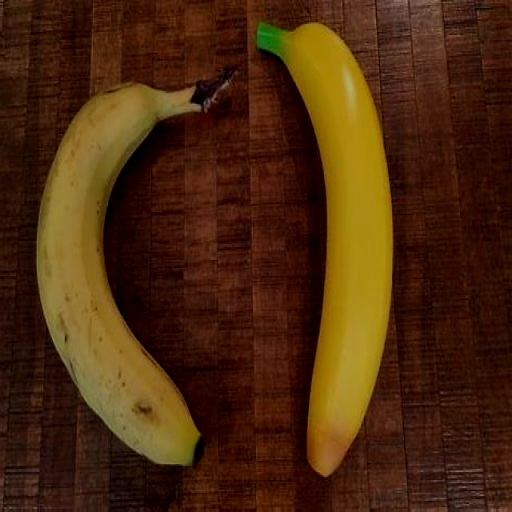fruit: (36, 68, 232, 464), (256, 24, 391, 475)
